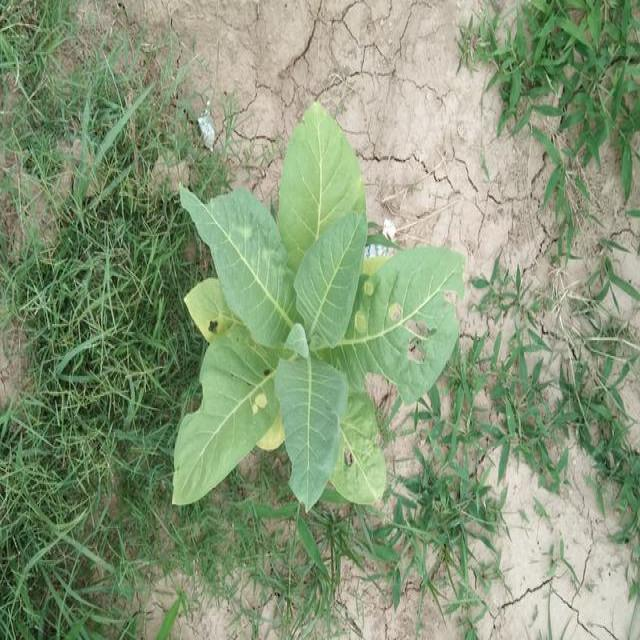crop: (175, 93, 467, 519)
